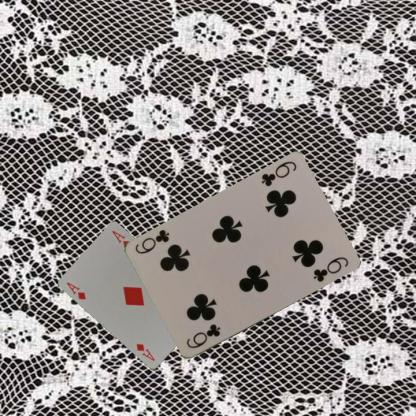6c: (258, 158, 298, 188), (183, 321, 222, 350)
Ad: (64, 279, 87, 301)
